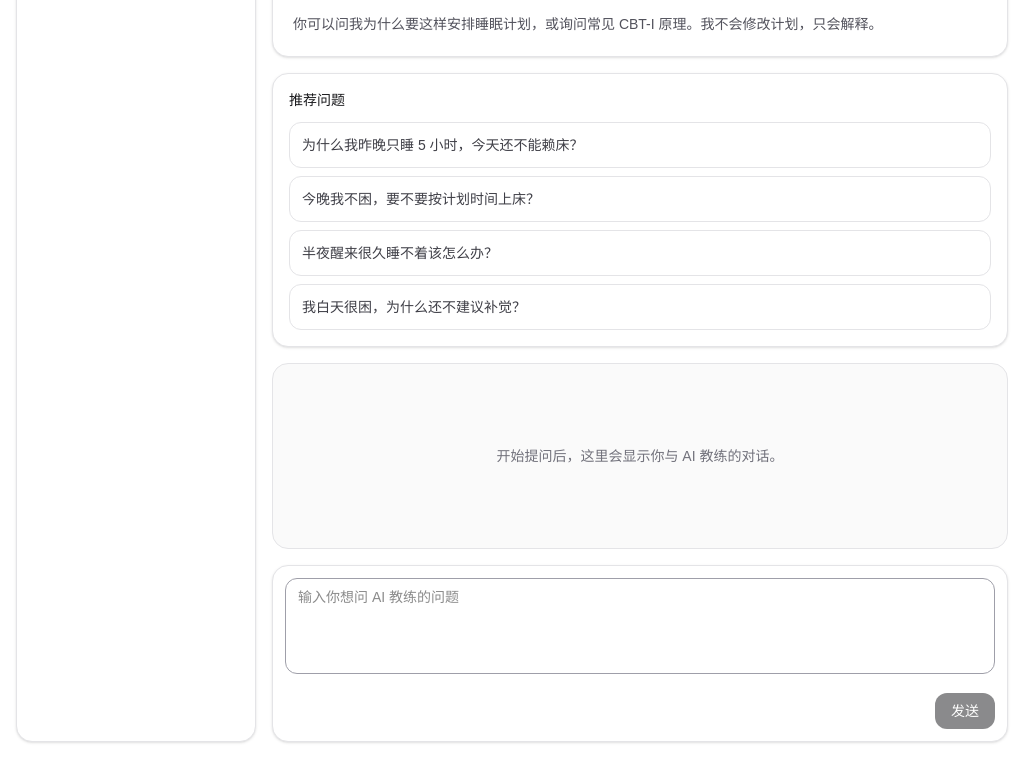
CoachShell › 手动输入后点击发送仍会走原有发送逻辑
(page scrolled)
Type "手动输入的问题" into the text box at (640, 626), box 285,578 -> 995,674
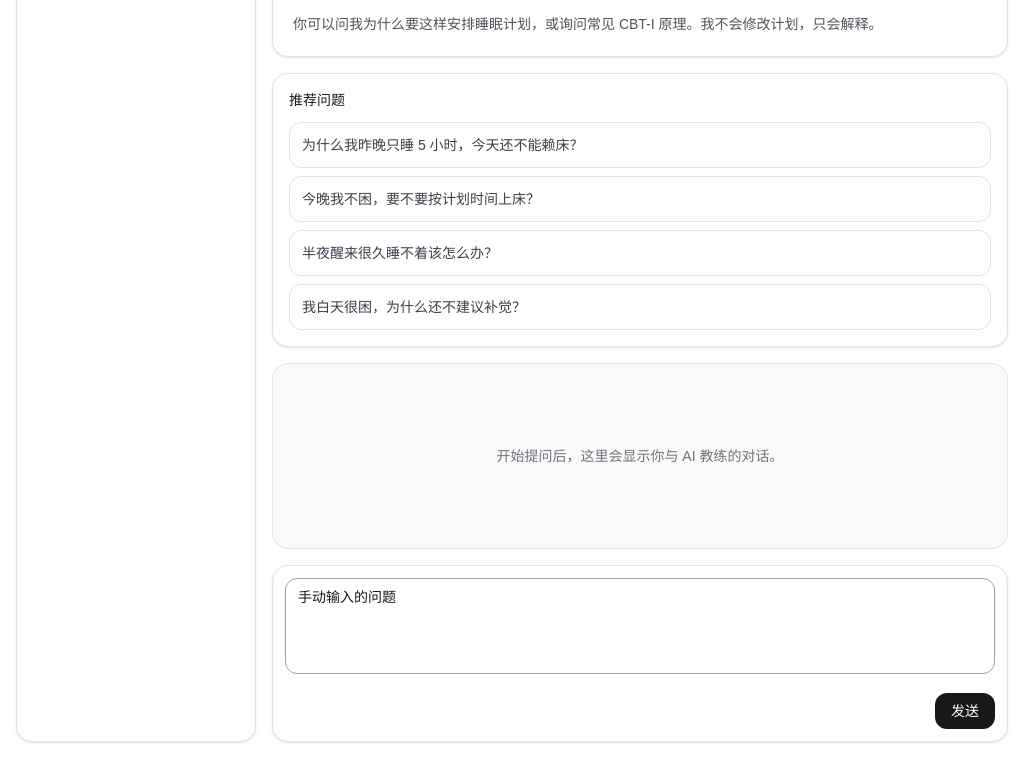
Click the button "发送" at (965, 711), box 935,693 -> 995,729
(page scrolled)
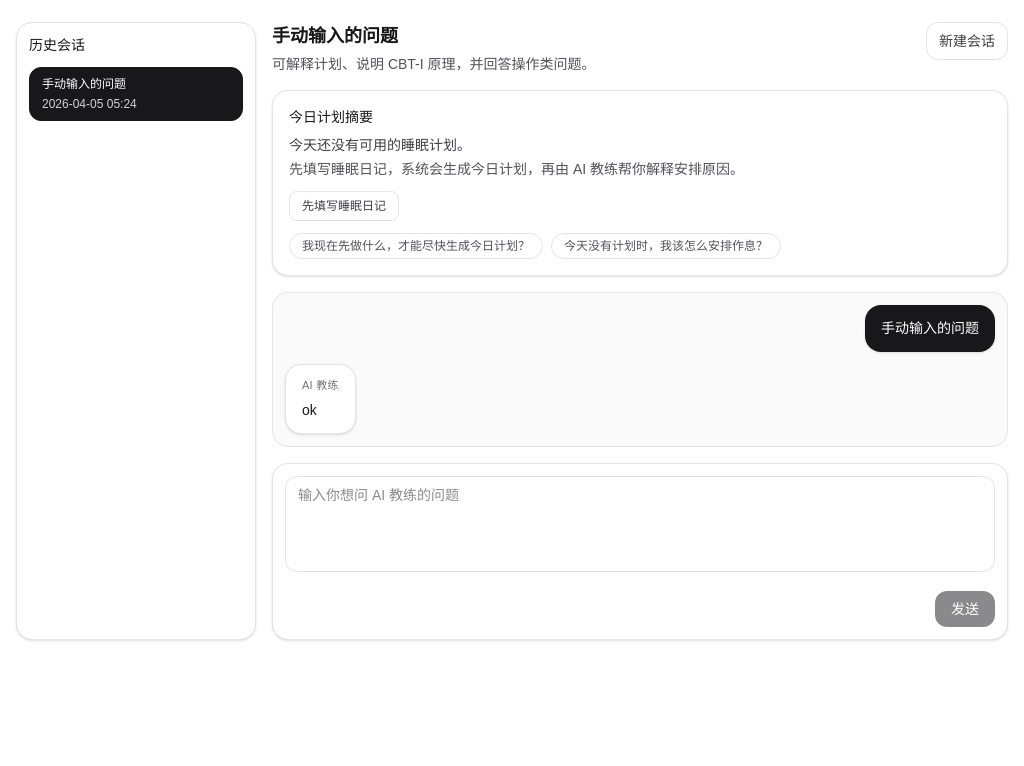
Check: the text "手动输入的问题" below "历史会话" is shown, box 42,77 -> 126,91
